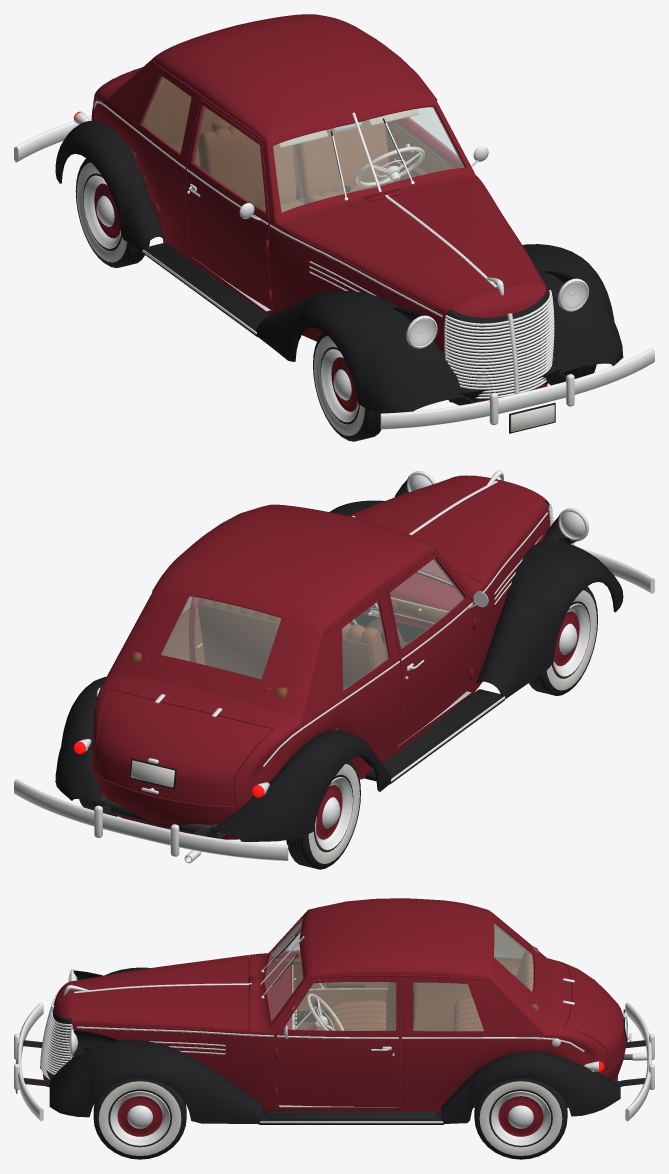
File: oldtimer.glb
The picture shows the model from 3 angles, top to bottom: view 1: azimuth 30°, elevation 25°; view 2: azimuth 150°, elevation 25°; view 3: azimuth 270°, elevation 25°; orthographic projection. The views are drawn at different scales.
Parts seen in each view (by area): view 1: Body, Hood, Fender_FR, Glass_Windshield, Grille_Shell, Door_R, Fender_FL, Bumper_Front, Fender_RR, Seat_Front_L, Seat_Front_R, Door_R_Glass (+13 smaller); view 2: Body, Trunk_Lid, Hood, Fender_FR, Fender_RR, Door_R, Glass_Rear, Bumper_Rear, Seat_Front_L, Wheel_RR, Wheel_FR, Door_R_Glass (+11 smaller); view 3: Body, Hood, Door_L, Fender_FL, Wheel_RL, Wheel_FL, Fender_RL, Door_L_Glass, Trunk_Lid, Glass_Quarter_L, Door_R, RunningBoard_L (+12 smaller).
Part boxes in pixels (x1,y1,x2,y2): Body: (91,14,483,399); Hood: (291,183,545,314); Fender_FR: (256,291,463,413); Glass_Windshield: (273,107,464,212); Grille_Shell: (444,277,554,405); Door_R: (186,99,273,310); Fender_FL: (522,244,623,373); Bumper_Front: (380,347,654,433); Fender_RR: (55,121,164,252); Seat_Front_L: (293,120,391,204); Seat_Front_R: (198,125,304,212); Door_R_Glass: (193,106,265,212); Body: (91,504,548,839); Trunk_Lid: (94,689,273,805); Hood: (348,477,546,587); Fender_FR: (476,541,623,699); Fender_RR: (210,730,391,841); Door_R: (386,554,488,746); Glass_Rear: (161,596,281,678); Bumper_Rear: (14,779,288,860); Seat_Front_L: (197,598,280,679); Wheel_RR: (286,760,360,869); Wheel_FR: (529,586,597,695); Door_R_Glass: (390,558,464,648); Body: (74,898,625,1111); Hood: (74,955,249,1032); Door_L: (274,978,399,1106); Fender_FL: (49,1039,262,1124); Wheel_RL: (474,1078,567,1159); Wheel_FL: (93,1078,186,1159); Fender_RL: (441,1051,620,1123); Door_L_Glass: (283,982,395,1030); Trunk_Lid: (563,963,631,1071); Glass_Quarter_L: (413,982,483,1030); Door_R: (276,927,388,1029); RunningBoard_L: (259,1110,444,1124).
Bounding box in the file's own units: 1.93 × 1.62 × 4.88.
